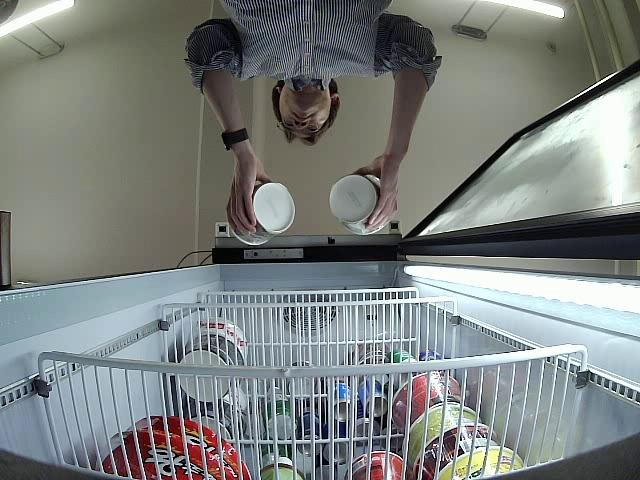00_hand: (353, 158, 399, 231), (227, 161, 268, 240)
03_chapagetti_L: (226, 184, 295, 247), (329, 173, 389, 237)
